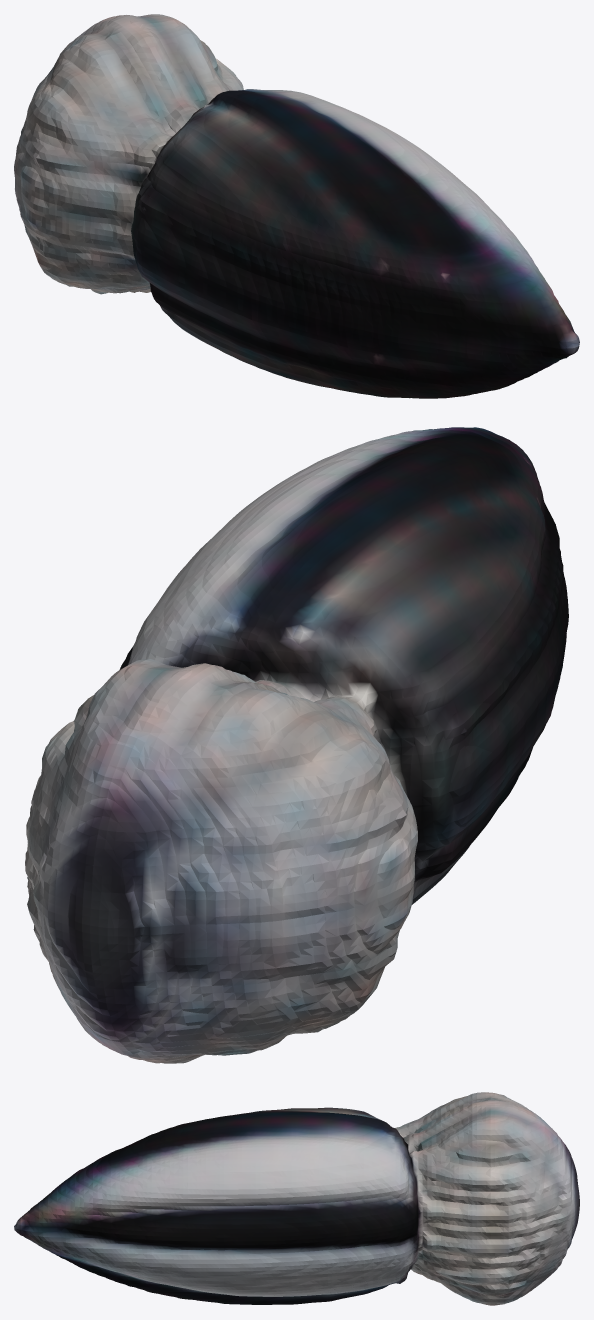
3 renders of one model, top to bottom at view 1: azimuth 30°, elevation 25°; view 2: azimuth 150°, elevation 25°; view 3: azimuth 270°, elevation 25°, orthographic. The views are drawn at different scales.
Size of the model in its own units: 0.3624 by 0.3185 by 0.855.
